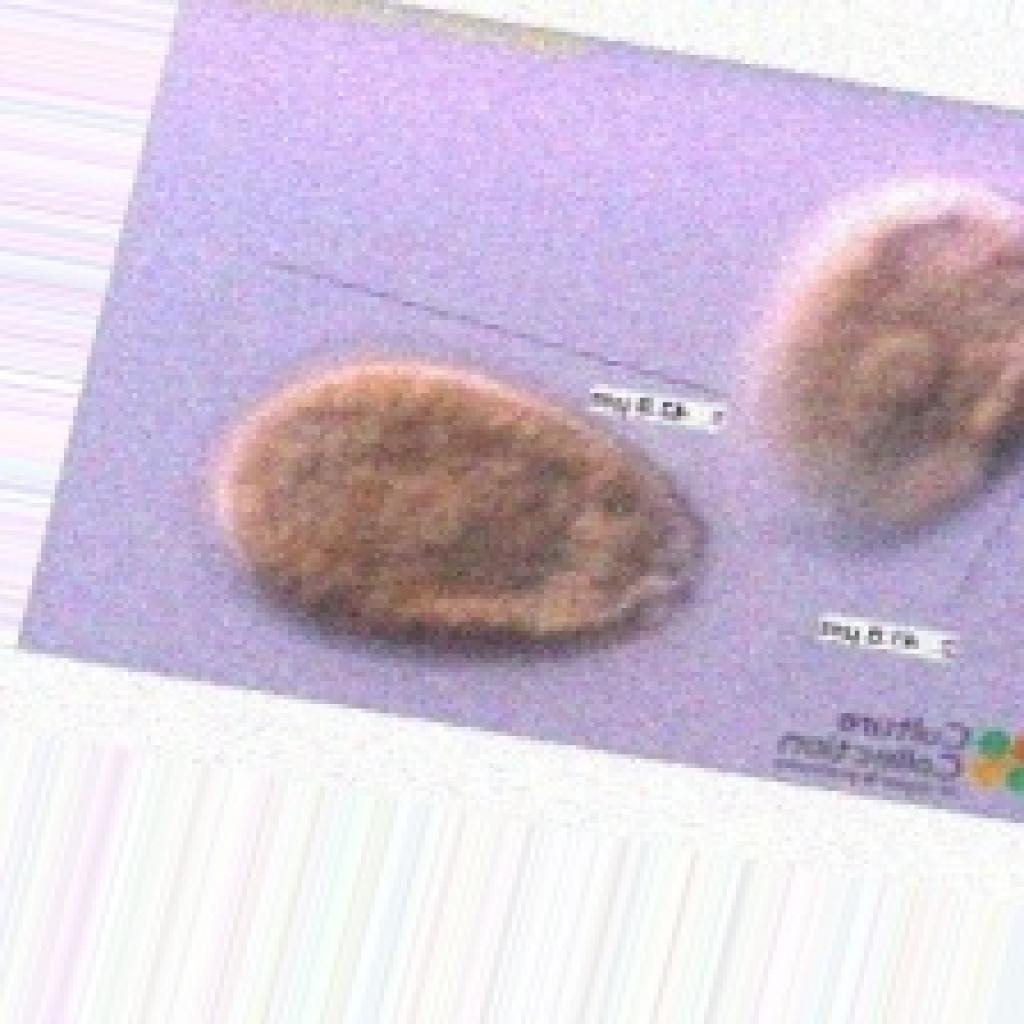Microalgae: (206, 352, 708, 645), (722, 119, 1024, 570)
